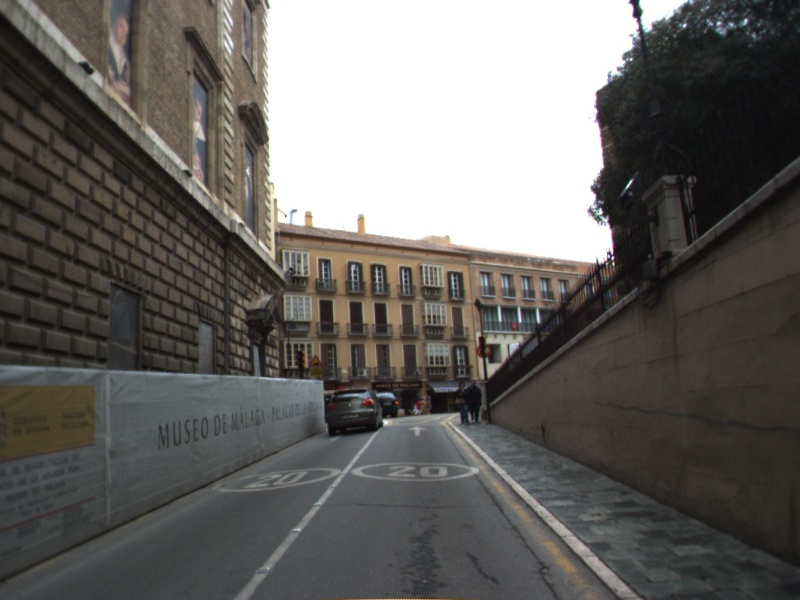STRAIGHT: (406, 424, 428, 437)
